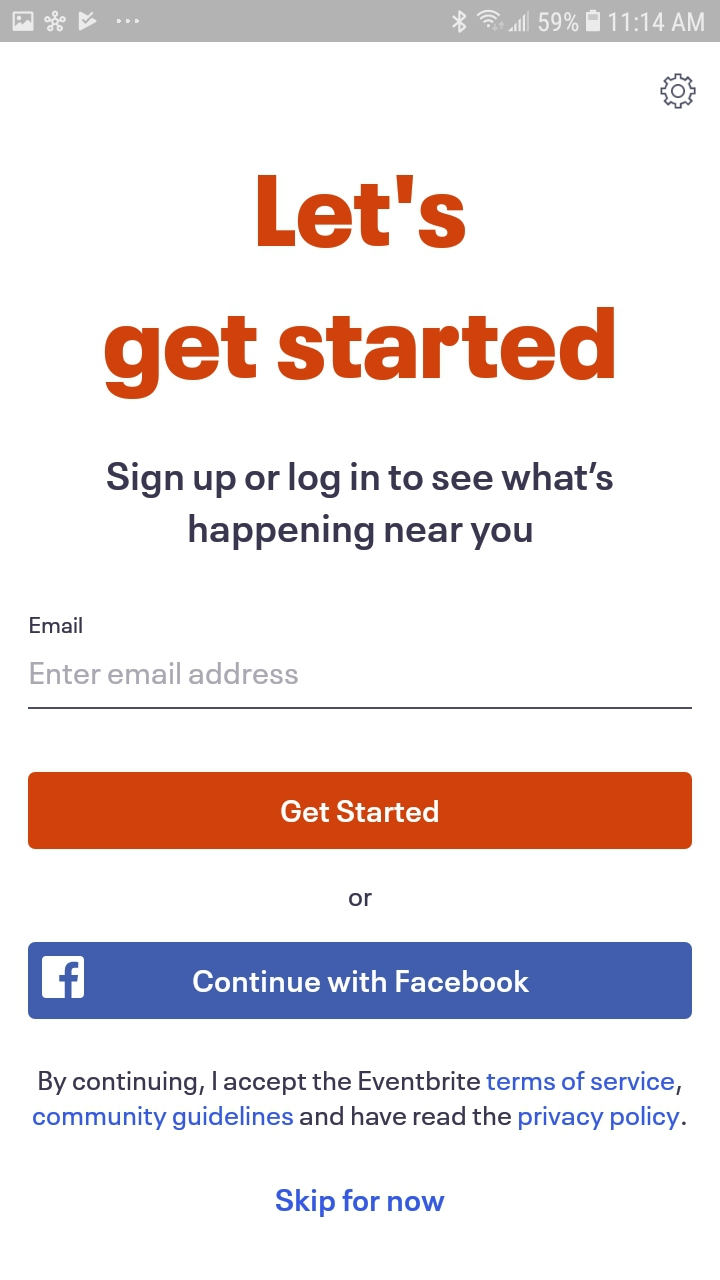EditText: (29, 662, 693, 710)
Icon: (660, 73, 697, 110)
Text: (105, 308, 615, 401), (107, 461, 614, 551), (34, 1071, 687, 1131), (258, 175, 466, 250), (31, 662, 299, 685), (276, 1188, 446, 1218), (30, 617, 83, 634), (349, 892, 373, 907)
TextButton: (29, 942, 693, 1020), (28, 772, 692, 850)
UpperTaskBar: (2, 2, 720, 43)
